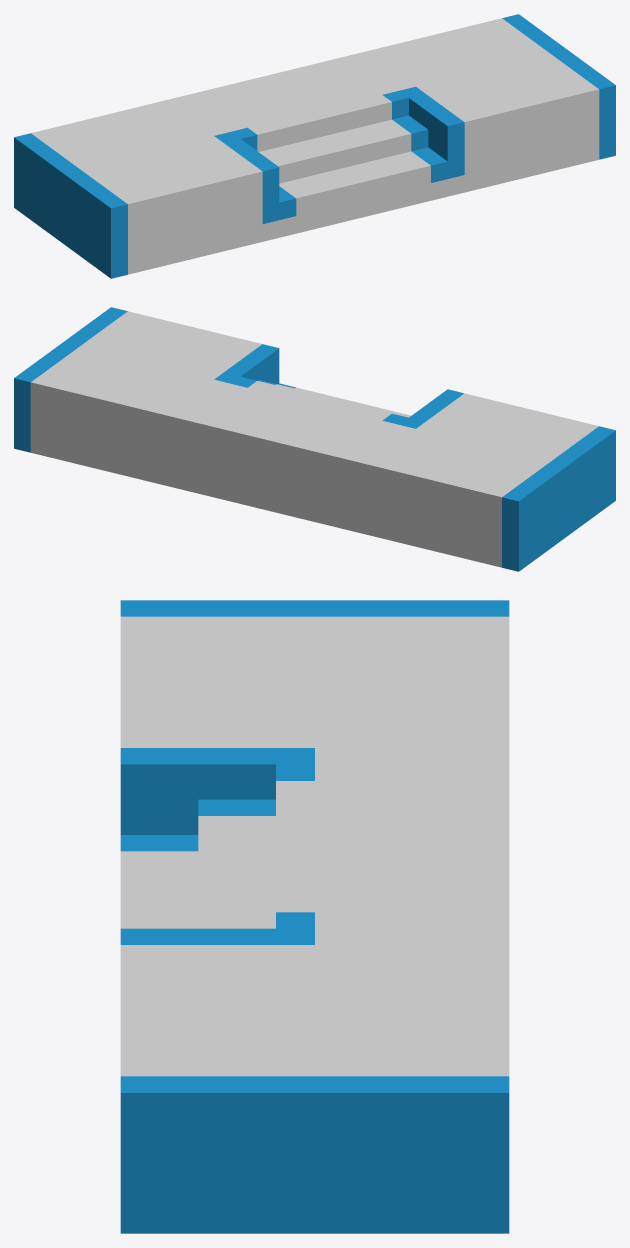
File: AlleyToWideUpRamp.fbx
The picture shows the model from 3 angles, top to bottom: view 1: azimuth 30°, elevation 25°; view 2: azimuth 150°, elevation 25°; view 3: azimuth 270°, elevation 25°; orthographic projection. The views are drawn at different scales.
Visible parts, largest first — view 1: Box_5; view 2: Box_5; view 3: Box_5.
Part boxes in pixels (box(x1,y1,x2,y2)): Box_5: box(14, 14, 615, 278); Box_5: box(14, 307, 615, 571); Box_5: box(120, 600, 509, 1233).
Bounding box in the file's own units: 30 × 4 × 10.
